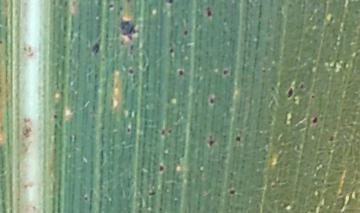tarspot: (117, 16, 141, 42), (90, 42, 100, 54), (286, 86, 294, 99), (205, 5, 213, 17), (326, 135, 336, 144), (126, 67, 136, 76), (158, 163, 165, 173), (147, 190, 157, 197), (233, 135, 241, 143), (207, 139, 215, 147), (228, 188, 236, 196), (311, 116, 318, 125), (208, 96, 215, 105), (177, 68, 184, 77), (166, 126, 173, 135), (118, 5, 125, 13), (125, 125, 131, 134), (222, 69, 229, 76), (168, 47, 175, 54), (107, 3, 114, 10), (269, 85, 276, 92), (259, 68, 267, 74), (81, 196, 89, 202), (160, 128, 165, 137), (298, 82, 304, 89), (182, 29, 188, 36), (310, 93, 316, 100), (163, 1, 175, 4), (52, 113, 58, 119), (153, 129, 159, 135), (158, 206, 163, 213), (1, 38, 4, 46), (125, 1, 131, 4)
